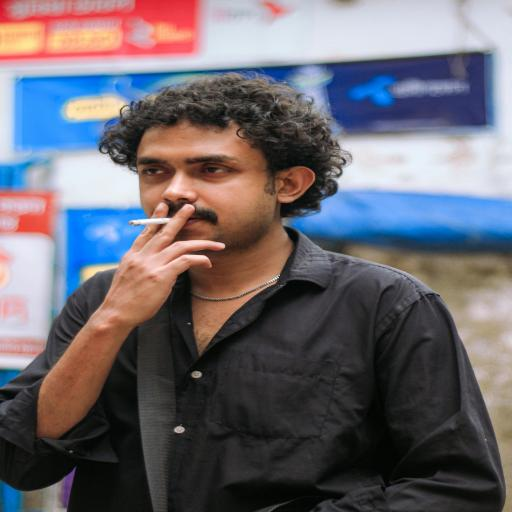dataset-deteksi-merokok: (117, 132, 263, 259)
